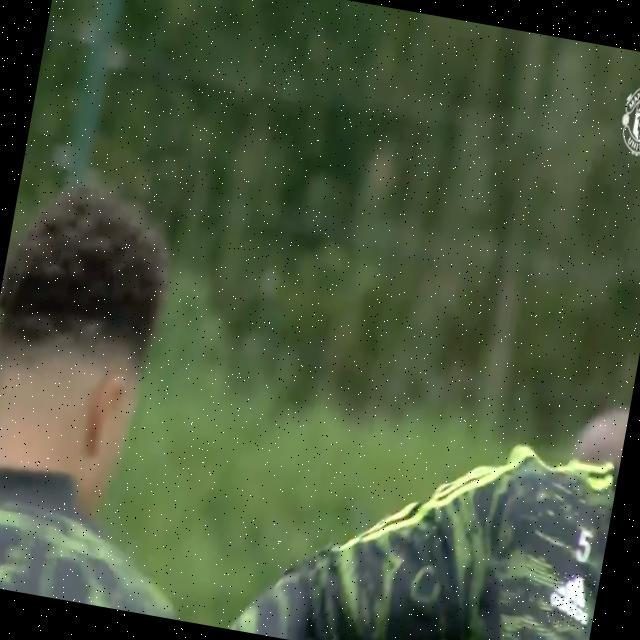Adidas: (545, 568, 596, 630)
